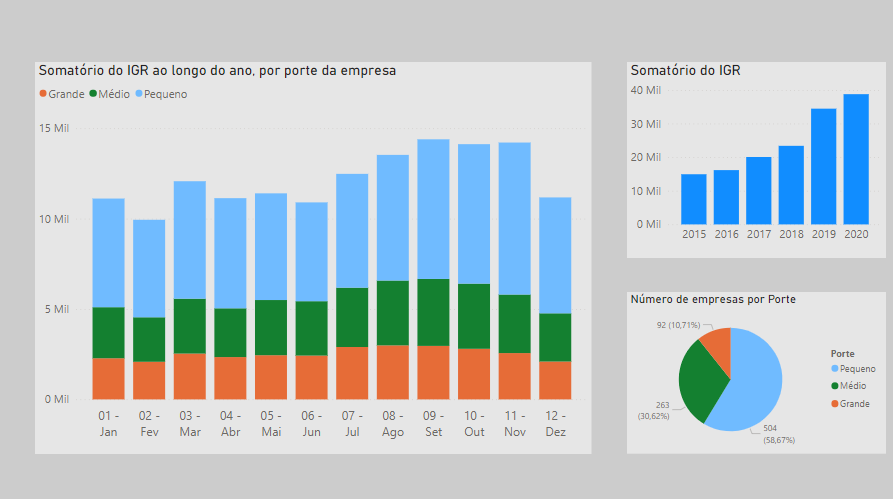

Layout of this report page (visuals, bound fields, positions):
{"tool":"powerbi","page":{"name":"Avaliacao-temporal","canvas":[1280,720],"ordinal":0},"visuals":[{"type":"columnChart","title":"Somatório do IGR ao longo do ano, por porte da empresa","fields":{"Category":["Plan1.Mês"],"Y":["Sum(Plan1.Porte - Grande)","Sum(Plan1.Porte - Médio)","Sum(Plan1.Porte - Pequeno)"]},"box":[52.5,90,795,560],"z":0},{"type":"pieChart","fields":{"Category":["IGR_editado.Porte"],"Y":["CountNonNull(IGR_editado.Total por Empresa)"]},"box":[898.8,418.8,370,231.2],"z":1000},{"type":"columnChart","title":"Somatório do IGR","fields":{"Category":["Plan2.Ano"],"Y":["Sum(Plan2.Soma)"]},"box":[898.8,90,370,280],"z":2000}]}

Visuals, with their boxes in screenshot pixels (x1, y1, x2, y2), scaled from the page's 1280x720 canvas onto the 893x499 screenshot:
"Somatório do IGR ao longo do ano, por porte da empresa" columnChart: {"left": 37, "top": 62, "right": 591, "bottom": 450}
pieChart - IGR_editado.Porte x CountNonNull(IGR_editado.Total por Empresa): {"left": 627, "top": 290, "right": 885, "bottom": 450}
"Somatório do IGR" columnChart: {"left": 627, "top": 62, "right": 885, "bottom": 256}
